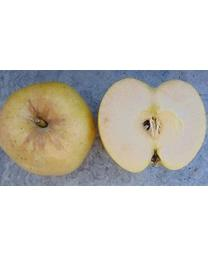apple: (96, 78, 206, 172), (0, 81, 95, 176)
